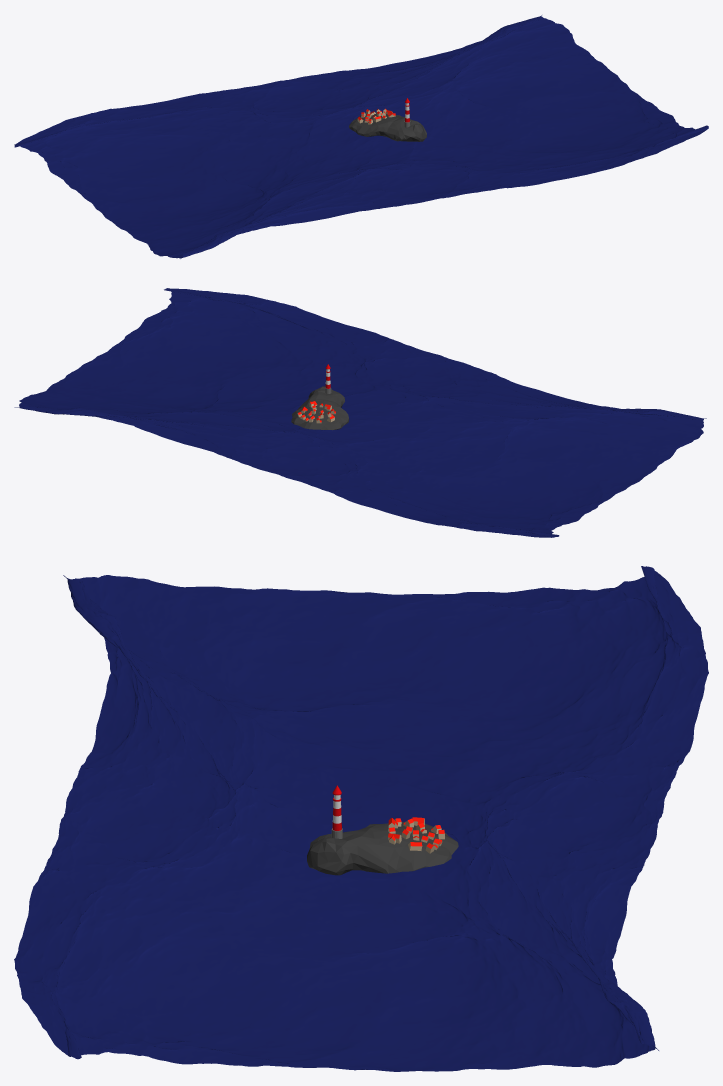
The model's file is BlenderFormationEditing.fbx.
3 renders of one model, top to bottom at view 1: azimuth 30°, elevation 25°; view 2: azimuth 150°, elevation 25°; view 3: azimuth 270°, elevation 25°, orthographic. The views are drawn at different scales.
Visible parts, largest first — view 1: Water, BaseRocks; view 2: Water, BaseRocks; view 3: Water, BaseRocks.
Boxes of the visible parts, x1=… form: Water: x1=14, y1=15, x2=708, y2=258; BaseRocks: x1=349, y1=112, x2=426, y2=141; Water: x1=14, y1=288, x2=706, y2=537; BaseRocks: x1=291, y1=386, x2=349, y2=430; Water: x1=14, y1=566, x2=708, y2=1071; BaseRocks: x1=307, y1=822, x2=458, y2=875.
Bounding box in the file's own units: 4682 × 440 × 2793.
